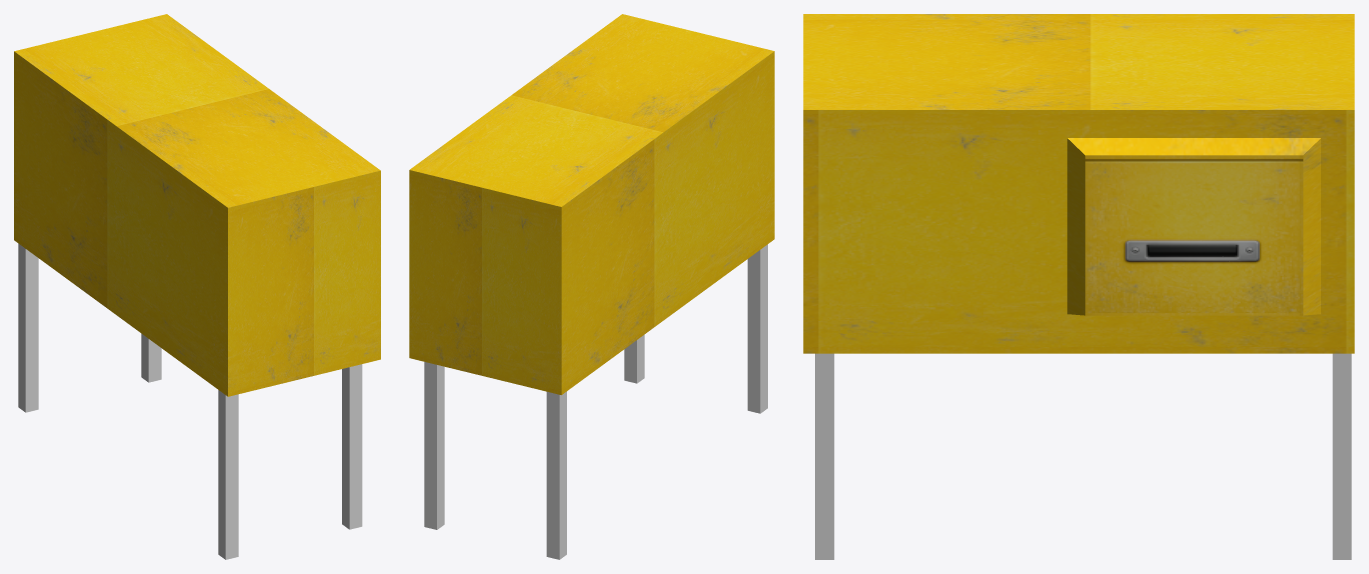
File: Delivery Zone3.fbx
3 views of the same model, side by side, from view 1: azimuth 30°, elevation 25°; view 2: azimuth 150°, elevation 25°; view 3: azimuth 270°, elevation 25° (orthographic). The views are drawn at different scales.
Parts seen in each view (by area): view 1: Cube, Cube.004, Cube.001, Cube.003, Cube.002; view 2: Cube, Cube.003, Cube.002, Cube.004, Cube.001; view 3: Cube, Cube.001, Cube.002.
Part boxes in pixels (x1=…): Cube: x1=14, y1=14, x2=380, y2=396; Cube.004: x1=218, y1=390, x2=238, y2=559; Cube.001: x1=342, y1=364, x2=362, y2=529; Cube.003: x1=18, y1=243, x2=38, y2=412; Cube.002: x1=141, y1=333, x2=161, y2=382; Cube: x1=409, y1=14, x2=774, y2=394; Cube.003: x1=546, y1=391, x2=566, y2=559; Cube.002: x1=424, y1=362, x2=444, y2=529; Cube.004: x1=747, y1=244, x2=767, y2=413; Cube.001: x1=624, y1=334, x2=644, y2=383; Cube: x1=803, y1=14, x2=1354, y2=353; Cube.001: x1=815, y1=353, x2=834, y2=559; Cube.002: x1=1332, y1=353, x2=1351, y2=559.
Bounding box in the file's own units: 107 × 216 × 235.
Materials: 2 (2 with a texture image).
